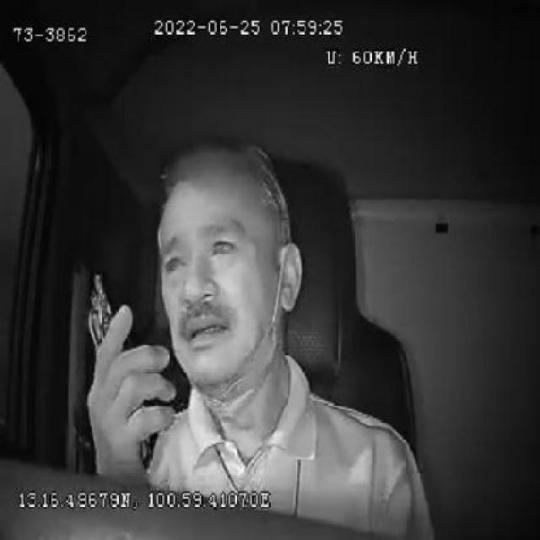phone: (84, 269, 162, 471)
